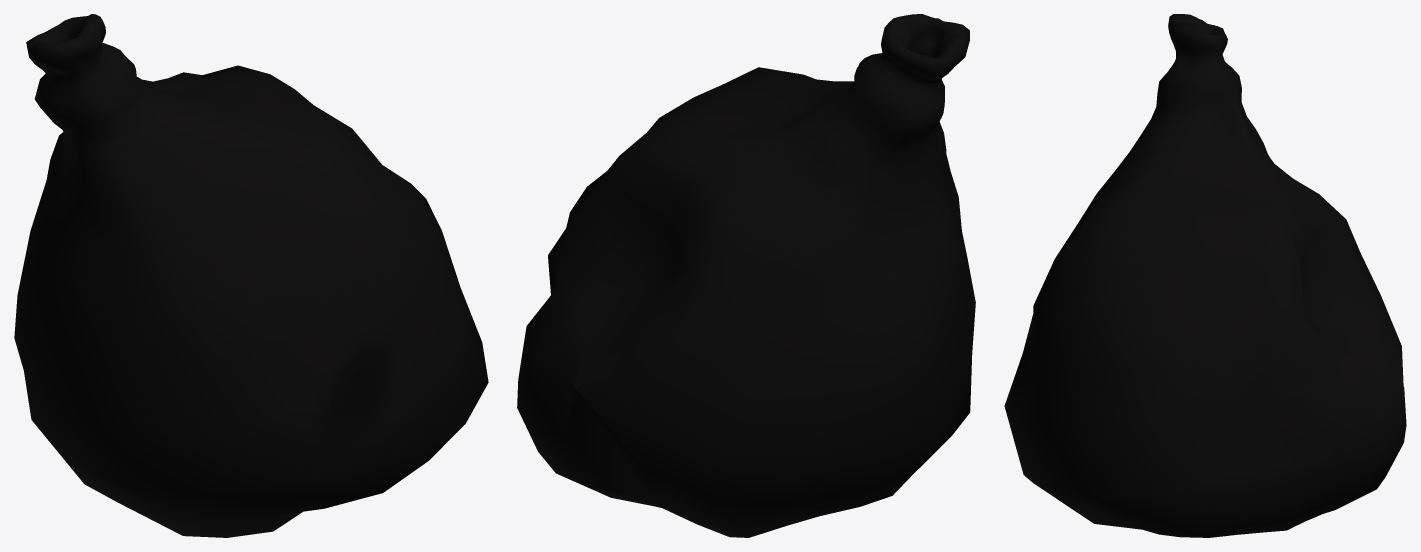
The model's file is PlasticBag.Obj.
3 renders of one model, left to right at view 1: azimuth 30°, elevation 25°; view 2: azimuth 150°, elevation 25°; view 3: azimuth 270°, elevation 25°, orthographic. The views are drawn at different scales.
Visible parts, largest first — view 1: RetopoGroup1; view 2: RetopoGroup1; view 3: RetopoGroup1.
Part boxes in pixels (x1=…): RetopoGroup1: x1=14, y1=14, x2=488, y2=537; RetopoGroup1: x1=517, y1=14, x2=975, y2=537; RetopoGroup1: x1=1004, y1=14, x2=1406, y2=537.
Size of the model in its own units: 176 by 208 by 177.
